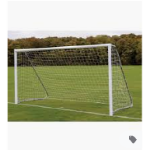goals: (13, 42, 134, 117)
